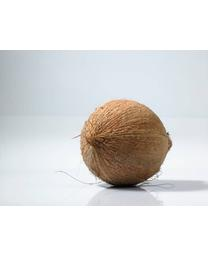coconut: (79, 98, 174, 188)
